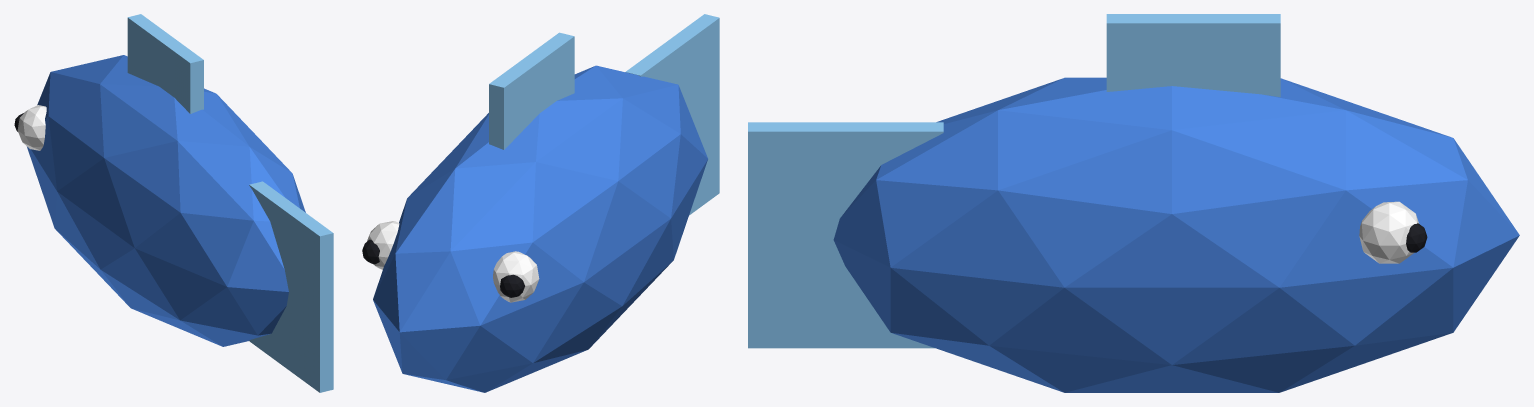
File: Scuba_FishBlue.fbx
3 renders of one model, left to right at view 1: azimuth 30°, elevation 25°; view 2: azimuth 150°, elevation 25°; view 3: azimuth 270°, elevation 25°, orthographic. The views are drawn at different scales.
Visible parts, largest first — view 1: FishBlue; view 2: FishBlue; view 3: FishBlue.
Part boxes in pixels (x1=…): FishBlue: x1=14, y1=14, x2=333, y2=392; FishBlue: x1=362, y1=14, x2=719, y2=392; FishBlue: x1=748, y1=14, x2=1519, y2=392.
Size of the model in its own units: 0.2283 by 0.38 by 0.71.
